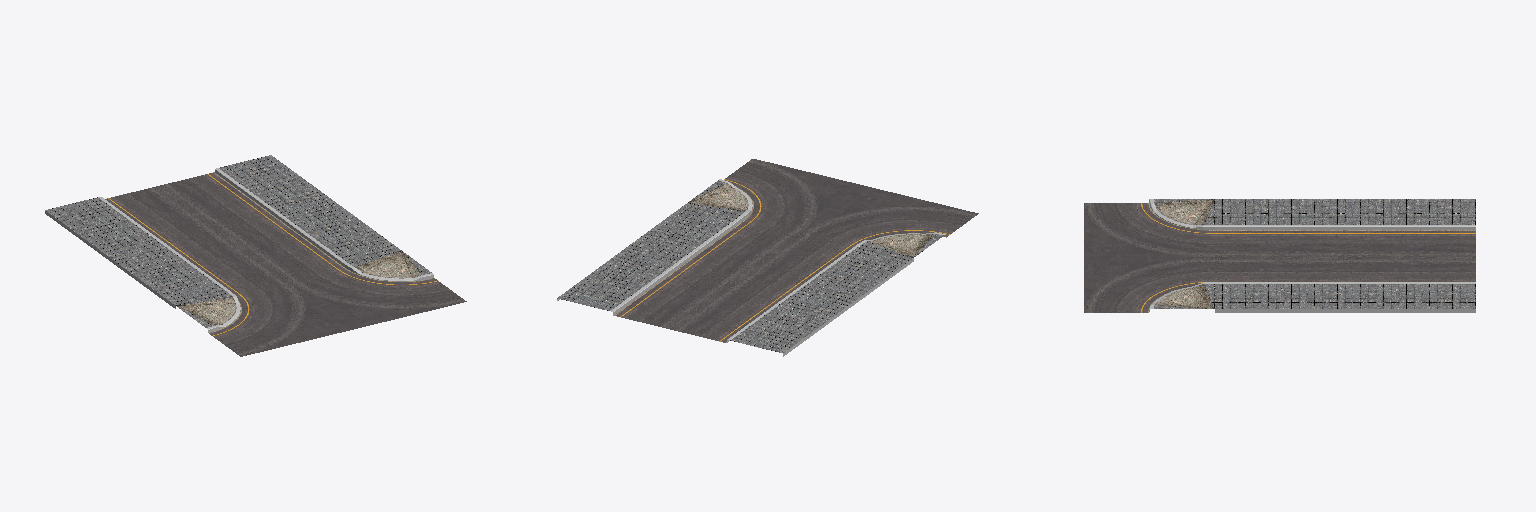
The picture shows the model from 3 angles: view 1: azimuth 30°, elevation 25°; view 2: azimuth 150°, elevation 25°; view 3: azimuth 270°, elevation 25°; orthographic projection.
Visible parts, largest first — view 1: Plane.019_Plane.005; view 2: Plane.019_Plane.005; view 3: Plane.019_Plane.005.
Boxes of the visible parts, x1,y1,x2,y2 form: Plane.019_Plane.005: [45, 155, 466, 356]; Plane.019_Plane.005: [557, 159, 978, 356]; Plane.019_Plane.005: [1084, 199, 1475, 312].
Size of the model in its own units: 24 by 0.3524 by 36.
8 materials, 4 textured.